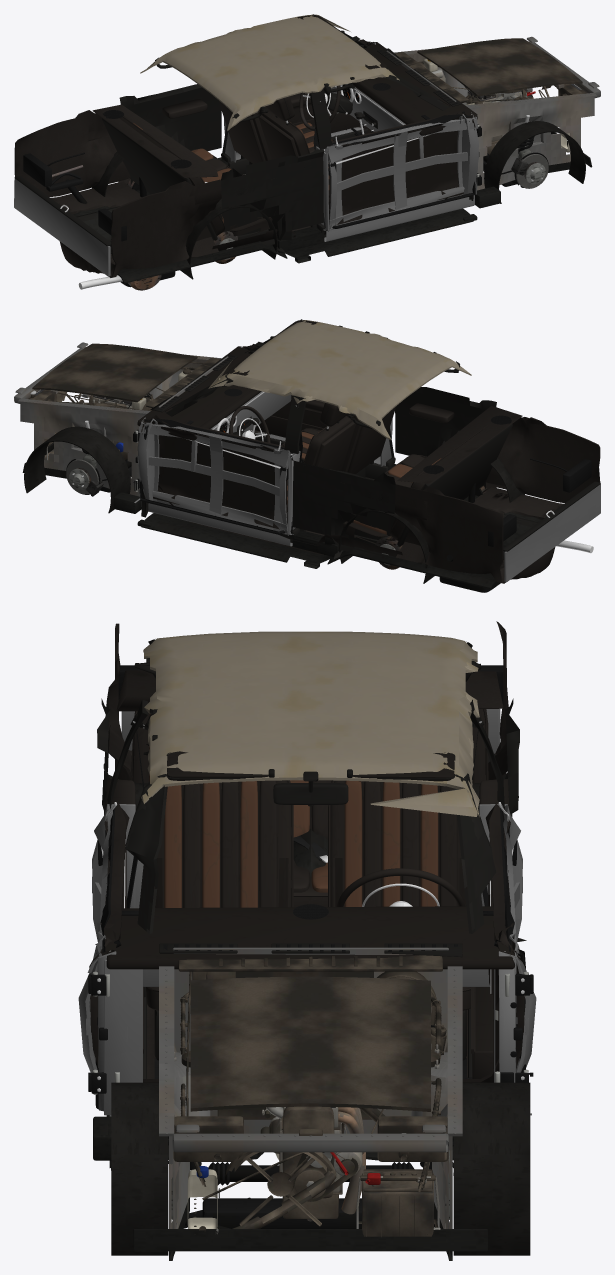
The model's file is lambari_completo.glb.
3 renders of one model, top to bottom at view 1: azimuth 30°, elevation 25°; view 2: azimuth 150°, elevation 25°; view 3: azimuth 270°, elevation 25°, orthographic. The views are drawn at different scales.
Parts seen in each view (by area): view 1: interior_portamalas_carpete, interior_forro_teto, door_card_fr_chapa, interior_lateral_traseira_dir, door_card_fr, hood_manta, engine_paralama_interno_dir, interior_painel, under_assoalho, interior_lateral_traseira_esq, interior_banco_traseiro, interior_portamalas_tampao (+20 smaller); view 2: interior_portamalas_carpete, interior_forro_teto, door_card_fl_chapa, interior_lateral_traseira_esq, door_card_fl, hood_manta, engine_paralama_interno_esq, interior_painel, under_assoalho, interior_lateral_traseira_dir, interior_banco_traseiro, under_caixa_roda_fl (+20 smaller); view 3: interior_forro_teto, hood_manta, interior_painel, interior_banco_dianteiro_dir, interior_banco_dianteiro_esq, under_caixa_roda_fl, engine_corta_fogo, engine_travessa, under_caixa_roda_fr, under_saias, interior_acabamento_colunas, engine_motor (+25 smaller).
Part boxes in pixels (x1,y1,x2,y2): interior_portamalas_carpete: [14, 110, 221, 277]; interior_forro_teto: [140, 14, 399, 130]; door_card_fr_chapa: [322, 112, 479, 231]; interior_lateral_traseira_dir: [211, 149, 323, 252]; door_card_fr: [324, 110, 475, 224]; hood_manta: [417, 38, 582, 97]; engine_paralama_interno_dir: [465, 93, 596, 190]; interior_painel: [331, 42, 477, 158]; under_assoalho: [73, 183, 477, 283]; interior_lateral_traseira_esq: [119, 84, 221, 185]; interior_banco_traseiro: [102, 116, 272, 240]; interior_portamalas_tampao: [92, 104, 218, 177]; interior_portamalas_carpete: [394, 417, 600, 583]; interior_forro_teto: [208, 320, 471, 440]; door_card_fl_chapa: [137, 417, 295, 535]; interior_lateral_traseira_esq: [291, 457, 403, 558]; door_card_fl: [141, 415, 292, 529]; hood_manta: [32, 343, 197, 402]; engine_paralama_interno_esq: [17, 398, 150, 496]; interior_painel: [137, 346, 291, 471]; under_assoalho: [137, 489, 541, 589]; interior_lateral_traseira_dir: [395, 387, 496, 489]; interior_banco_traseiro: [343, 424, 512, 546]; under_caixa_roda_fl: [24, 426, 130, 513]; interior_forro_teto: [134, 631, 481, 816]; hood_manta: [190, 976, 431, 1111]; interior_painel: [106, 904, 514, 986]; interior_banco_dianteiro_dir: [144, 780, 293, 1060]; interior_banco_dianteiro_esq: [328, 780, 470, 1060]; under_caixa_roda_fl: [453, 1082, 530, 1255]; engine_corta_fogo: [172, 947, 448, 1133]; engine_travessa: [172, 1109, 448, 1161]; under_caixa_roda_fr: [111, 1082, 168, 1255]; under_saias: [93, 1116, 487, 1251]; interior_acabamento_colunas: [107, 699, 504, 933]; engine_motor: [260, 1106, 365, 1218].
Size of what is drawn, in the model's own units: 3.96 by 1.32 by 1.52.
Materials: 52 (52 with a texture image).
